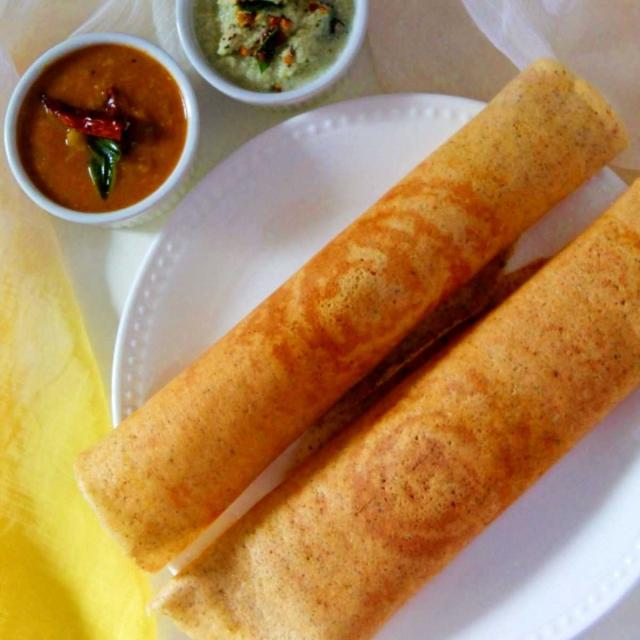DOSA: (62, 67, 638, 632)
